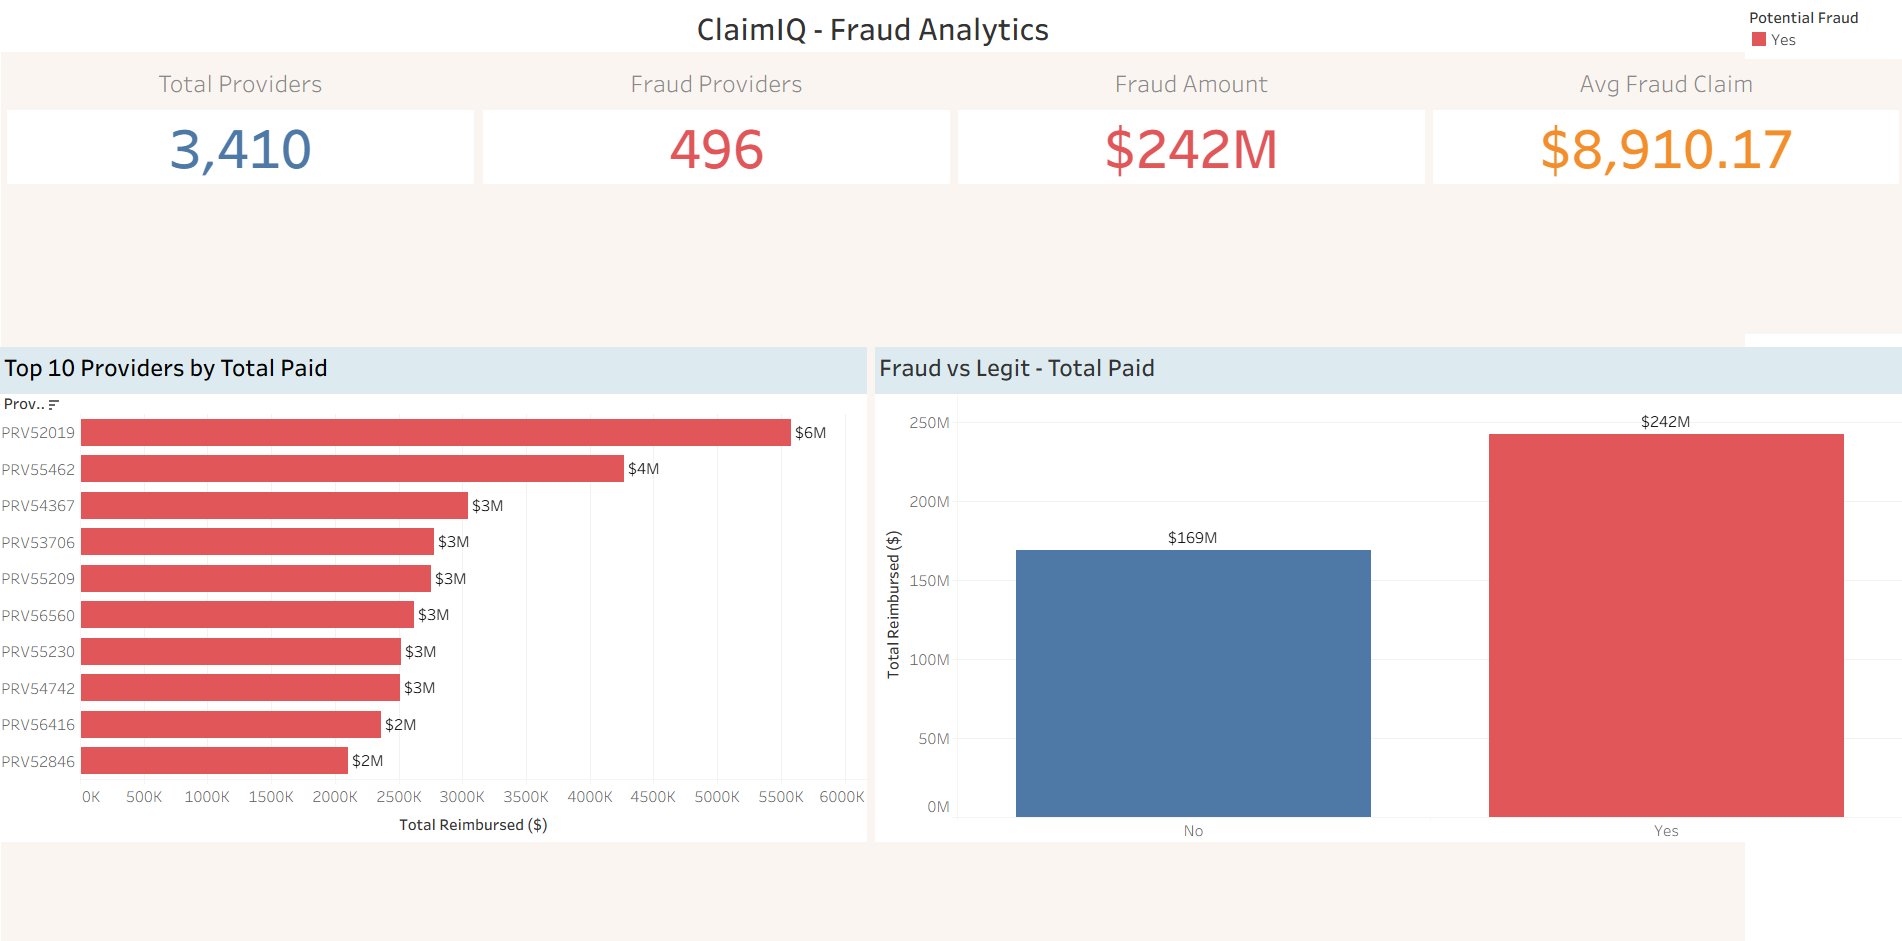

The dashboard page shown, as its layout file describes it:
{"tool":"tableau","page":{"name":"Dashboard 2 - Fraud Analytics","canvas":[1000,1000],"units":"permille","ordinal":1},"visuals":[{"type":"title","box":[4.8,9.4,893.8,57.6]},{"type":"legend","title":"Provider - Top 10","param":"[federated.0vielpk0wz9ihh1e53kei1538q3y].[none:PotentialFraud:nk]","box":[898.6,9.4,96.6,59.9]},{"type":"worksheet","title":"KPI - Total Providers","mark":"Automatic","box":[5.4,67,247.6,287.9]},{"type":"worksheet","title":"KPI - Fraud Providers","mark":"Automatic","box":[253,67,247.6,287.9]},{"type":"worksheet","title":"KPI - Fraud Amount","mark":"Automatic","box":[500.6,67,247.6,287.9]},{"type":"worksheet","title":"KPI - Avg Fraud Claim","mark":"Automatic","box":[748.2,67,247.6,287.9]},{"type":"worksheet","title":"Provider - Top 10","mark":"Automatic","rows":["ProviderID"],"cols":["Total_Paid"],"box":[1.8,364.3,528.1,527.6]},{"type":"worksheet","title":"Provider - Fraud vs Legit","mark":"Automatic","rows":["Total_Paid"],"cols":["PotentialFraud"],"box":[529.9,364.3,467.1,527.6]}]}

Visuals, with their boxes on the dashboard's canvas, which has no fixed pixel size, in thousandths of its width and height (x1, y1, x2, y2). These are canvas units, not pixel positions in the 1902x941 screenshot, which may show the page scaled, cropped or inside an application window:
title: BBox(5, 9, 899, 67)
"Provider - Top 10" legend: BBox(899, 9, 995, 69)
"KPI - Total Providers" worksheet: BBox(5, 67, 253, 355)
"KPI - Fraud Providers" worksheet: BBox(253, 67, 501, 355)
"KPI - Fraud Amount" worksheet: BBox(501, 67, 748, 355)
"KPI - Avg Fraud Claim" worksheet: BBox(748, 67, 996, 355)
"Provider - Top 10" worksheet: BBox(2, 364, 530, 892)
"Provider - Fraud vs Legit" worksheet: BBox(530, 364, 997, 892)
